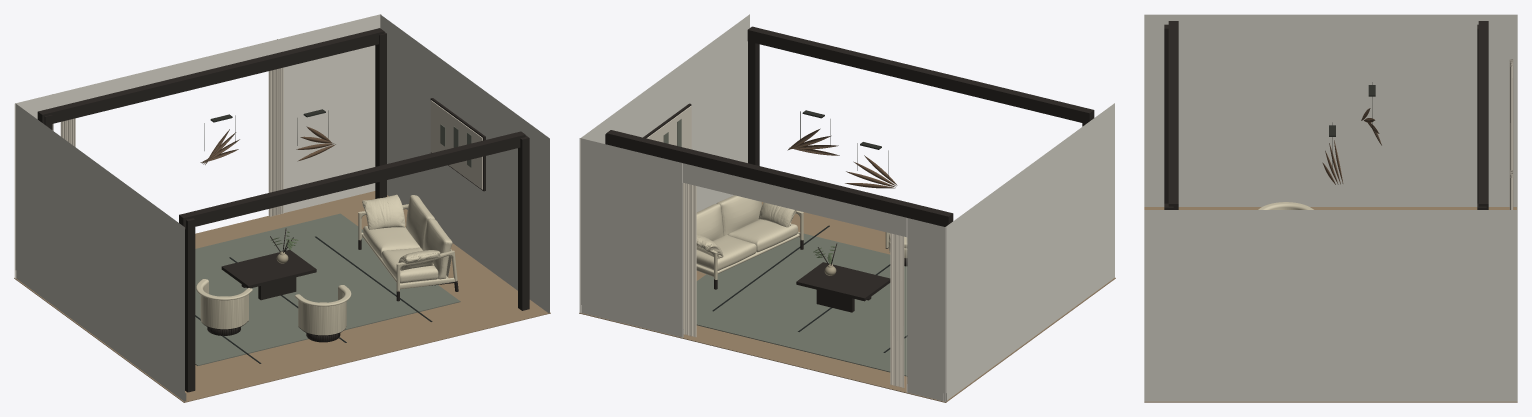
File: great-2.glb
3 renders of one model, left to right at view 1: azimuth 30°, elevation 25°; view 2: azimuth 150°, elevation 25°; view 3: azimuth 270°, elevation 25°, orthographic. The views are drawn at different scales.
Parts seen in each view (by area): view 1: DESIGN | great removable wall finish, DESIGN | Great room primary ground, DESIGN | great floor finish, DESIGN | Great room sofa facing conversation, DESIGN | Great room timber ceiling member.001, DESIGN | Great room timber ceiling member, DESIGN | Great room soft window edge.001, DESIGN | Great room timber end post.002, DESIGN | Required Bellustar swivel chair two, DESIGN | Great room conversation table top, DESIGN | Required Bellustar swivel chair one, DESIGN | Textile artwork.001 (+4 smaller); view 2: DESIGN | great removable wall finish, DESIGN | Great room primary ground, DESIGN | great floor finish, DESIGN | Great room sofa facing conversation, DESIGN | Great room timber ceiling member, DESIGN | Great room timber ceiling member.001, DESIGN | Great room soft window edge, DESIGN | Great room soft window edge.001, DESIGN | Great room conversation table top, DESIGN | Great room timber end post.002, DESIGN | Textile artwork.001, DESIGN | Required Flou pendant 1 (+2 smaller); view 3: DESIGN | great removable wall finish, DESIGN | Great room timber ceiling member, DESIGN | Great room timber ceiling member.001, DESIGN | great floor finish, DESIGN | Great room timber end post, DESIGN | Great room soft window edge, DESIGN | Great room timber end post.001, DESIGN | Required Flou pendant 2, DESIGN | Required Bellustar swivel chair one.
Boxes of the visible parts, left/top/right/bottom form: DESIGN | great removable wall finish: left=14, top=14, right=549, bottom=401; DESIGN | Great room primary ground: left=195, top=213, right=460, bottom=365; DESIGN | great floor finish: left=14, top=191, right=550, bottom=402; DESIGN | Great room sofa facing conversation: left=358, top=194, right=458, bottom=301; DESIGN | Great room timber ceiling member.001: left=37, top=28, right=384, bottom=124; DESIGN | Great room timber ceiling member: left=179, top=131, right=525, bottom=229; DESIGN | Great room soft window edge.001: left=268, top=67, right=283, bottom=216; DESIGN | Great room timber end post.002: left=518, top=135, right=529, bottom=310; DESIGN | Required Bellustar swivel chair two: left=294, top=285, right=351, bottom=342; DESIGN | Great room conversation table top: left=221, top=249, right=316, bottom=288; DESIGN | Required Bellustar swivel chair one: left=196, top=279, right=252, bottom=335; DESIGN | Textile artwork.001: left=430, top=100, right=482, bottom=189; DESIGN | great removable wall finish: left=579, top=14, right=1114, bottom=401; DESIGN | Great room primary ground: left=696, top=233, right=907, bottom=376; DESIGN | great floor finish: left=579, top=202, right=1115, bottom=402; DESIGN | Great room sofa facing conversation: left=696, top=195, right=803, bottom=289; DESIGN | Great room timber ceiling member: left=747, top=26, right=1094, bottom=123; DESIGN | Great room timber ceiling member.001: left=606, top=130, right=953, bottom=226; DESIGN | Great room soft window edge: left=890, top=233, right=904, bottom=387; DESIGN | Great room soft window edge.001: left=683, top=182, right=696, bottom=337; DESIGN | Great room conversation table top: left=796, top=262, right=890, bottom=301; DESIGN | Great room timber end post.002: left=748, top=41, right=759, bottom=165; DESIGN | Textile artwork.001: left=646, top=106, right=691, bottom=149; DESIGN | Required Flou pendant 1: left=845, top=155, right=897, bottom=188; DESIGN | great removable wall finish: left=1144, top=14, right=1517, bottom=401; DESIGN | Great room timber ceiling member: left=1168, top=21, right=1178, bottom=209; DESIGN | Great room timber ceiling member.001: left=1478, top=21, right=1488, bottom=209; DESIGN | great floor finish: left=1144, top=207, right=1517, bottom=402; DESIGN | Great room timber end post: left=1164, top=24, right=1168, bottom=203; DESIGN | Great room soft window edge: left=1509, top=59, right=1513, bottom=170; DESIGN | Great room timber end post.001: left=1477, top=24, right=1478, bottom=203; DESIGN | Required Flou pendant 2: left=1322, top=140, right=1343, bottom=184; DESIGN | Required Bellustar swivel chair one: left=1258, top=202, right=1313, bottom=209.
Size of the model in its own units: 6 by 2.74 by 4.82.
